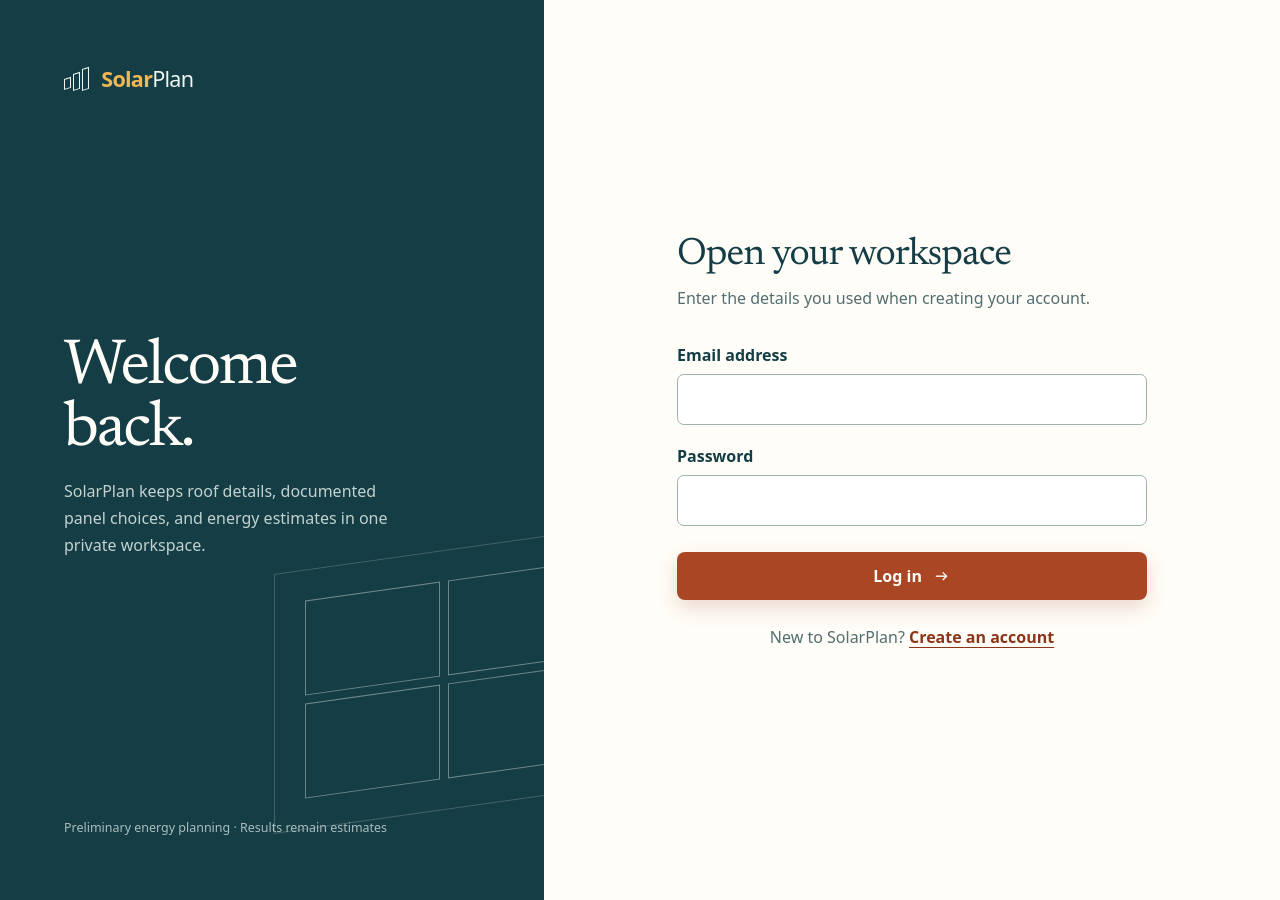
Scenario: SolarPlan application routes › logs in and opens the project dashboard
Type "milan@example.com" into the field labelled "Email address" at (912, 399), box [677,374,1147,425]
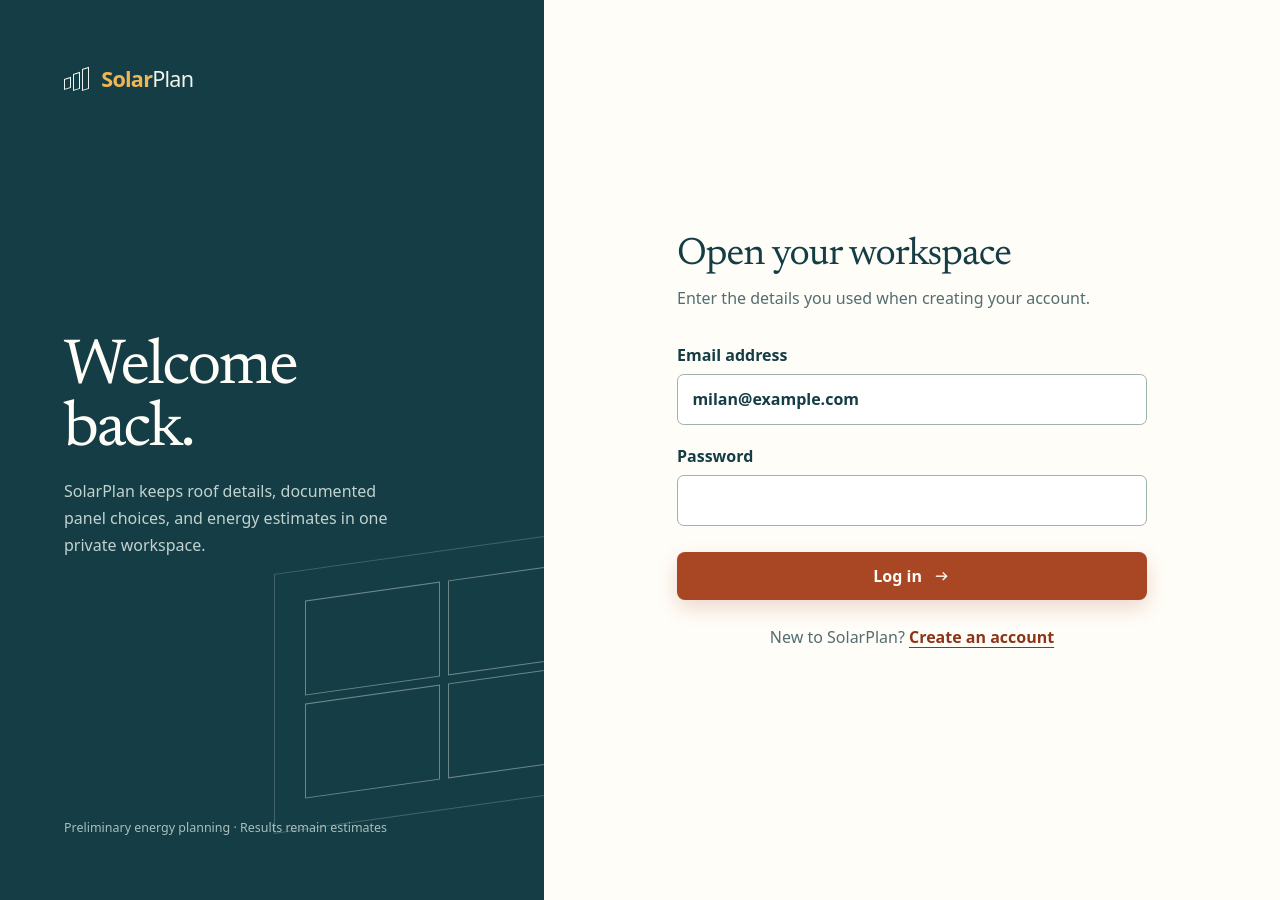
Type "SolarPlanTest1" into the password field labelled "Password" at (912, 500), box [677,475,1147,526]
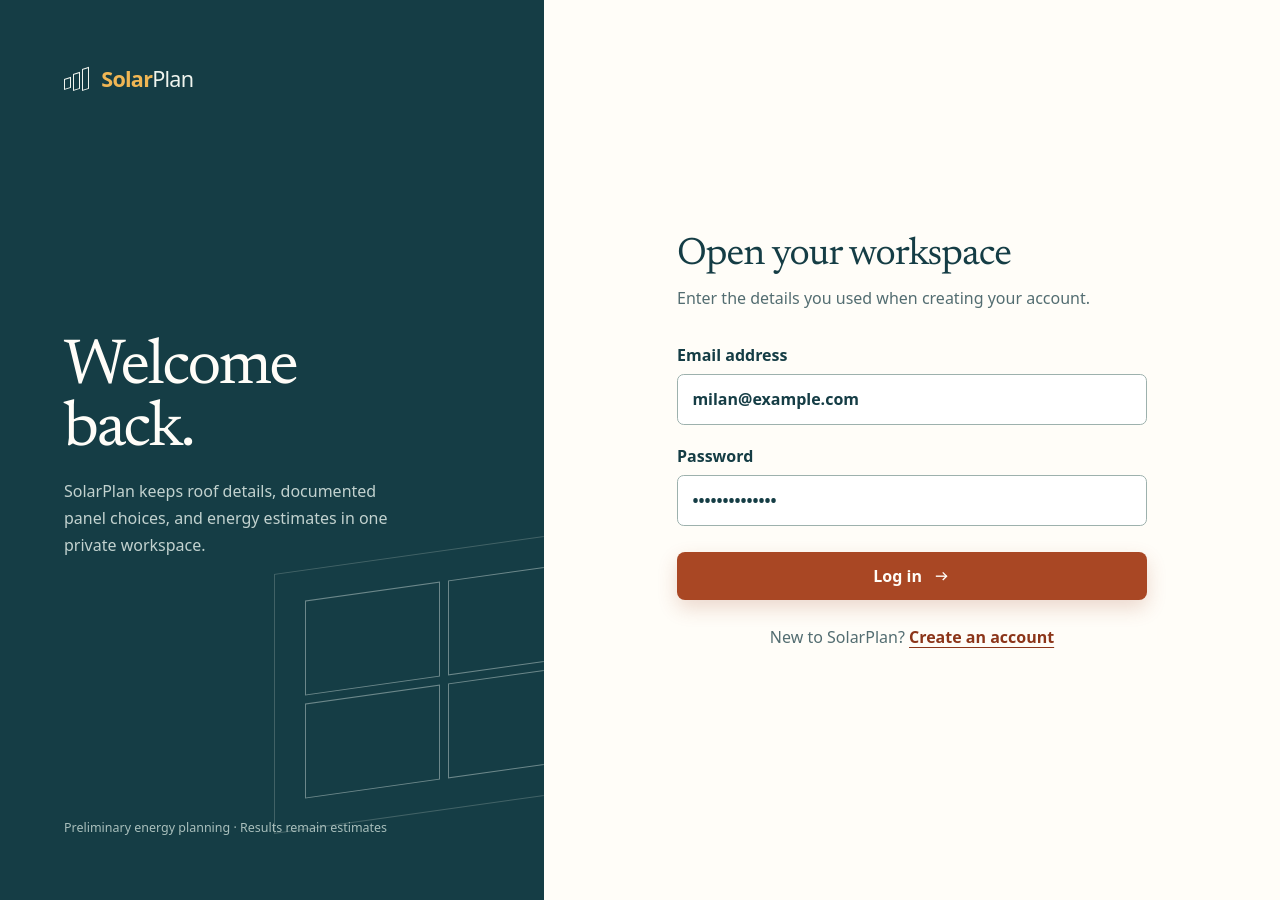
Click the button "Log in" at (912, 576), box [677,552,1147,600]
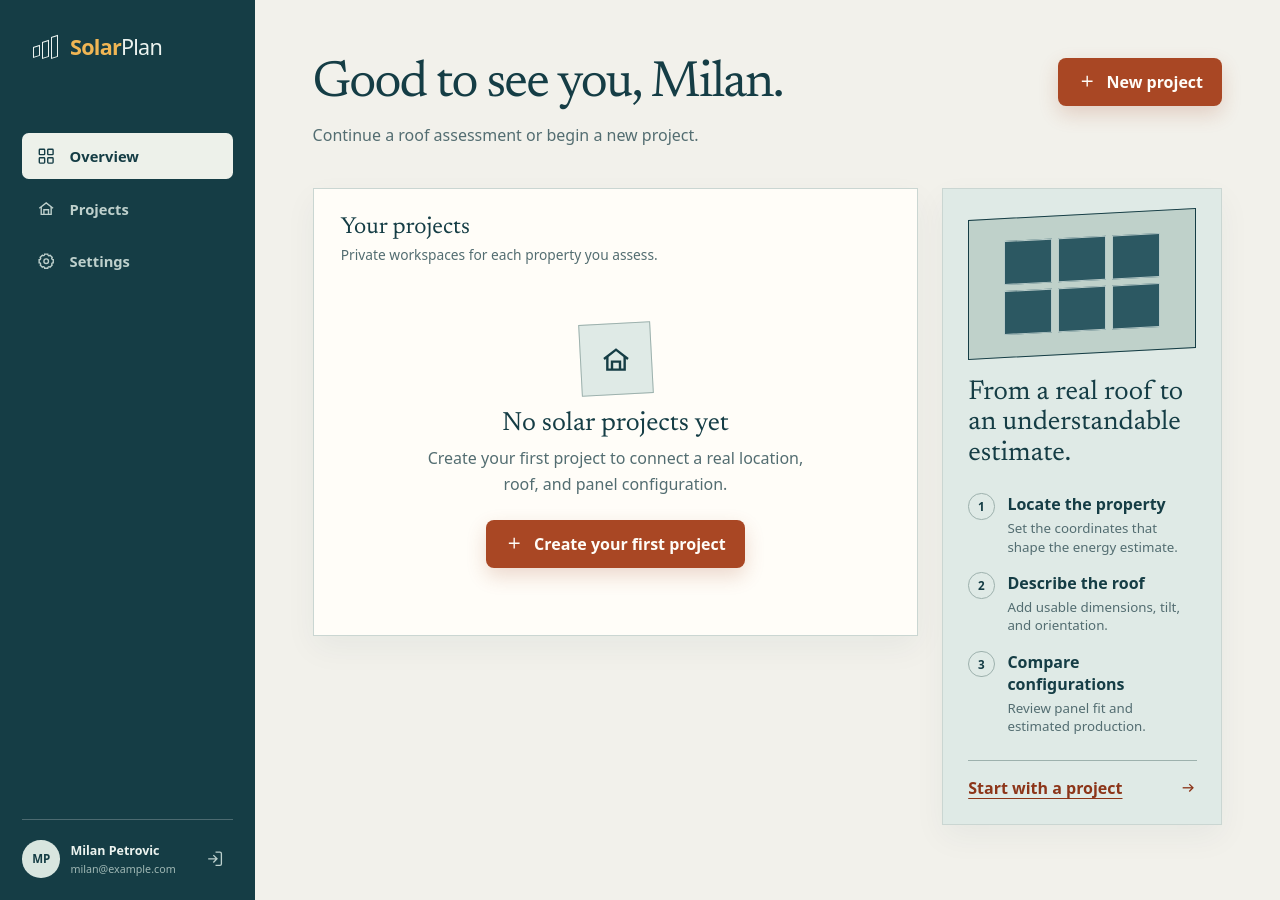
Expected: the heading "Good to see you, Milan." is shown, [313,58,783,110]
